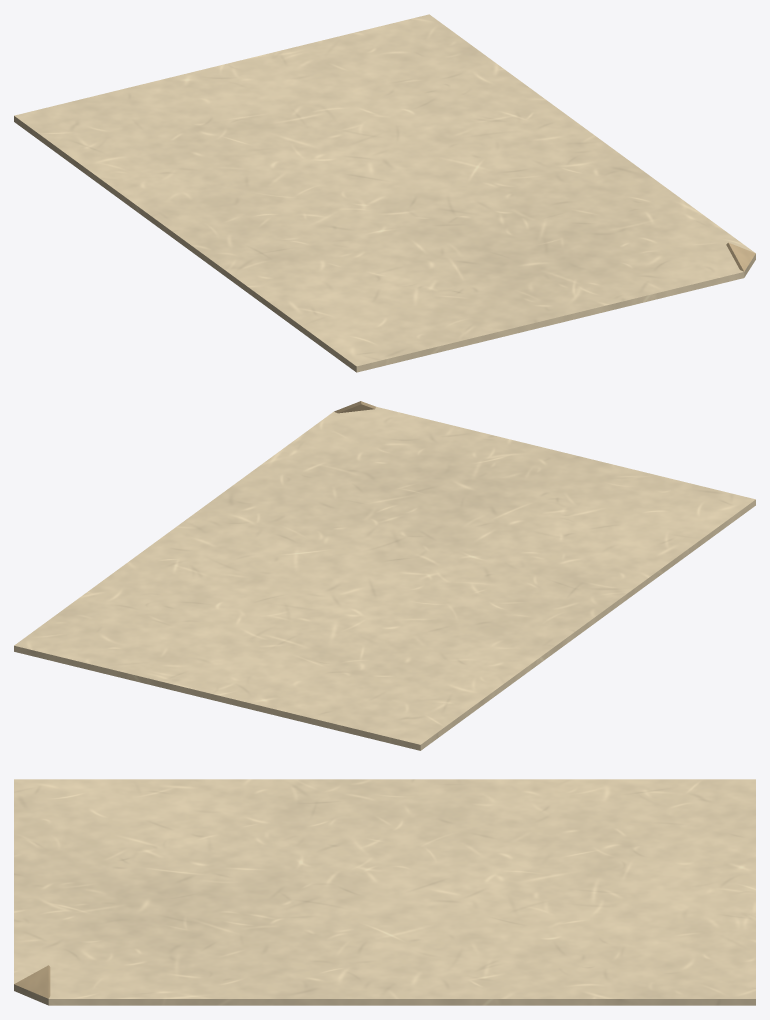
Rendered from paper_dry.glb.
3 views of the same model, one above another, from view 1: azimuth 30°, elevation 25°; view 2: azimuth 150°, elevation 25°; view 3: azimuth 270°, elevation 25° (orthographic). The views are drawn at different scales.
Parts seen in each view (by area): view 1: paper_dry__paper_body; view 2: paper_dry__paper_body; view 3: paper_dry__paper_body, paper_dry__folded_corner.
Boxes of the visible parts, x1=… form: paper_dry__paper_body: x1=14, y1=14, x2=755, y2=372; paper_dry__paper_body: x1=14, y1=407, x2=755, y2=750; paper_dry__paper_body: x1=14, y1=779, x2=755, y2=1005; paper_dry__folded_corner: x1=14, y1=965, x2=50, y2=998.
Size of the model in its own units: 0.42 by 0.023 by 0.6.
Materials: 2 (2 with a texture image).
